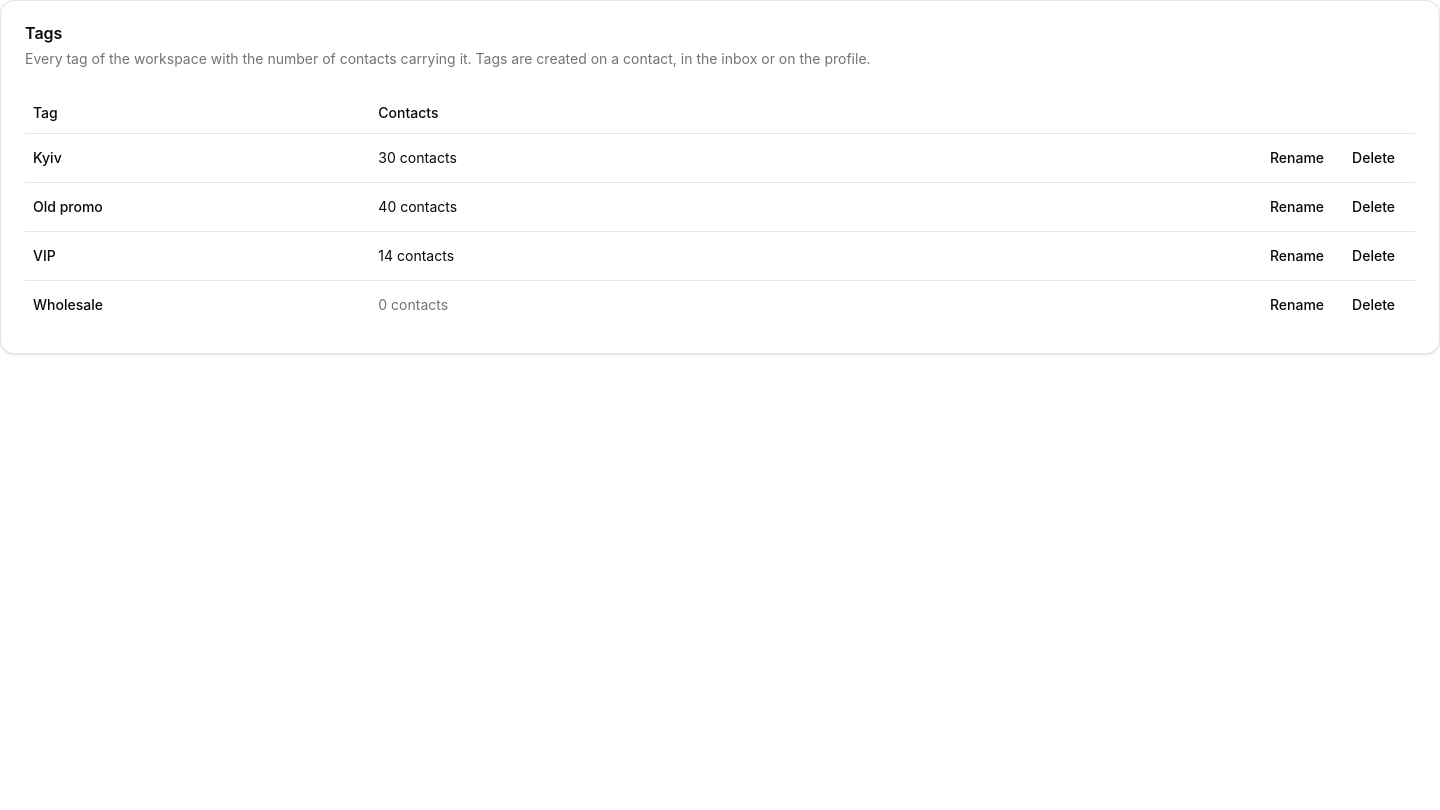
Test case: SCR-21 owner actions (AC-09, AC-11, AC-14) › tag gone: the dialog closes, the list re-reads, «This tag no longer exists.»
This screenshot has width=1440, height=810.
Click the button "Delete" in the row of "Old promo". click: (1374, 206)
box: [1340, 190, 1407, 222]
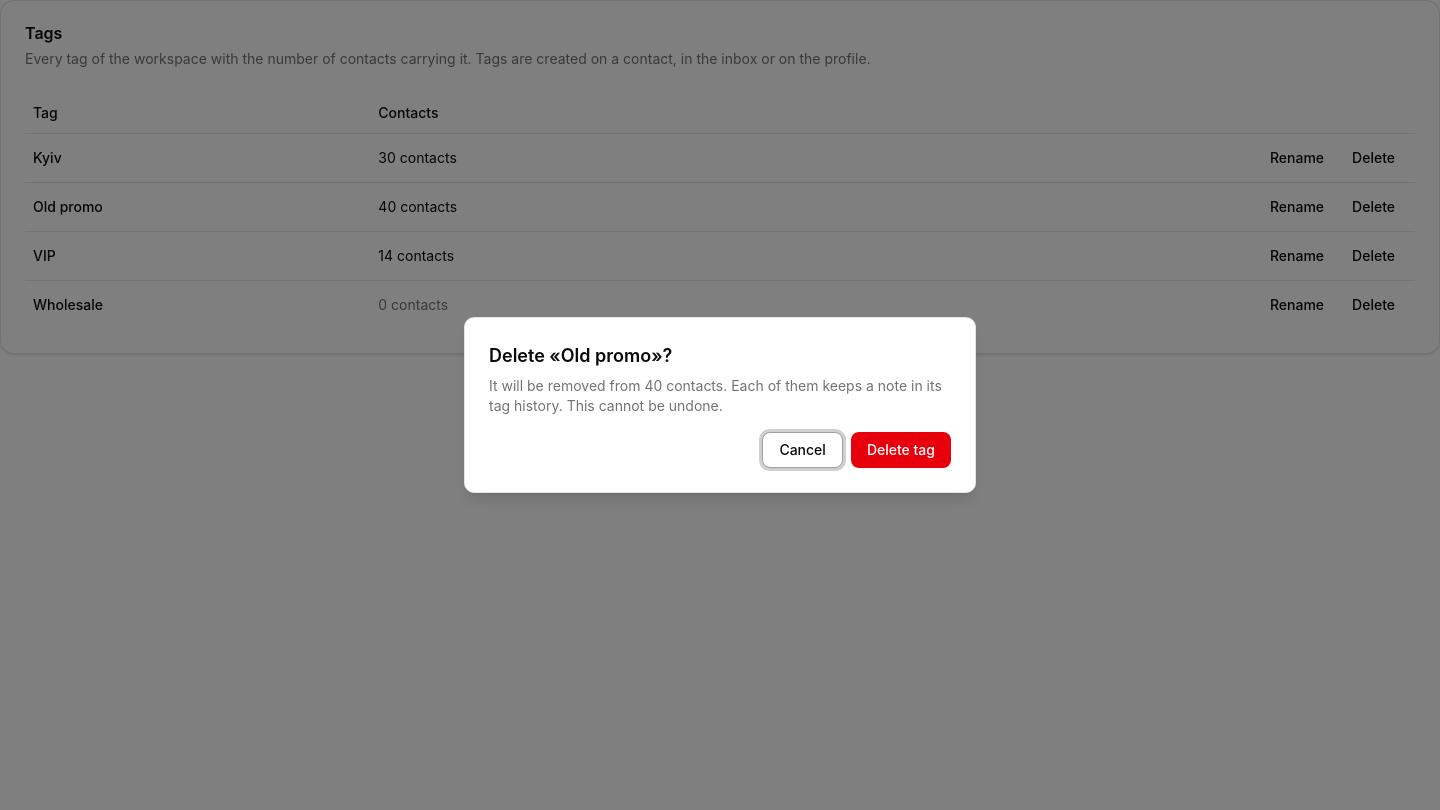
Click the button "Delete tag". click: (901, 450)
box: [851, 432, 951, 468]
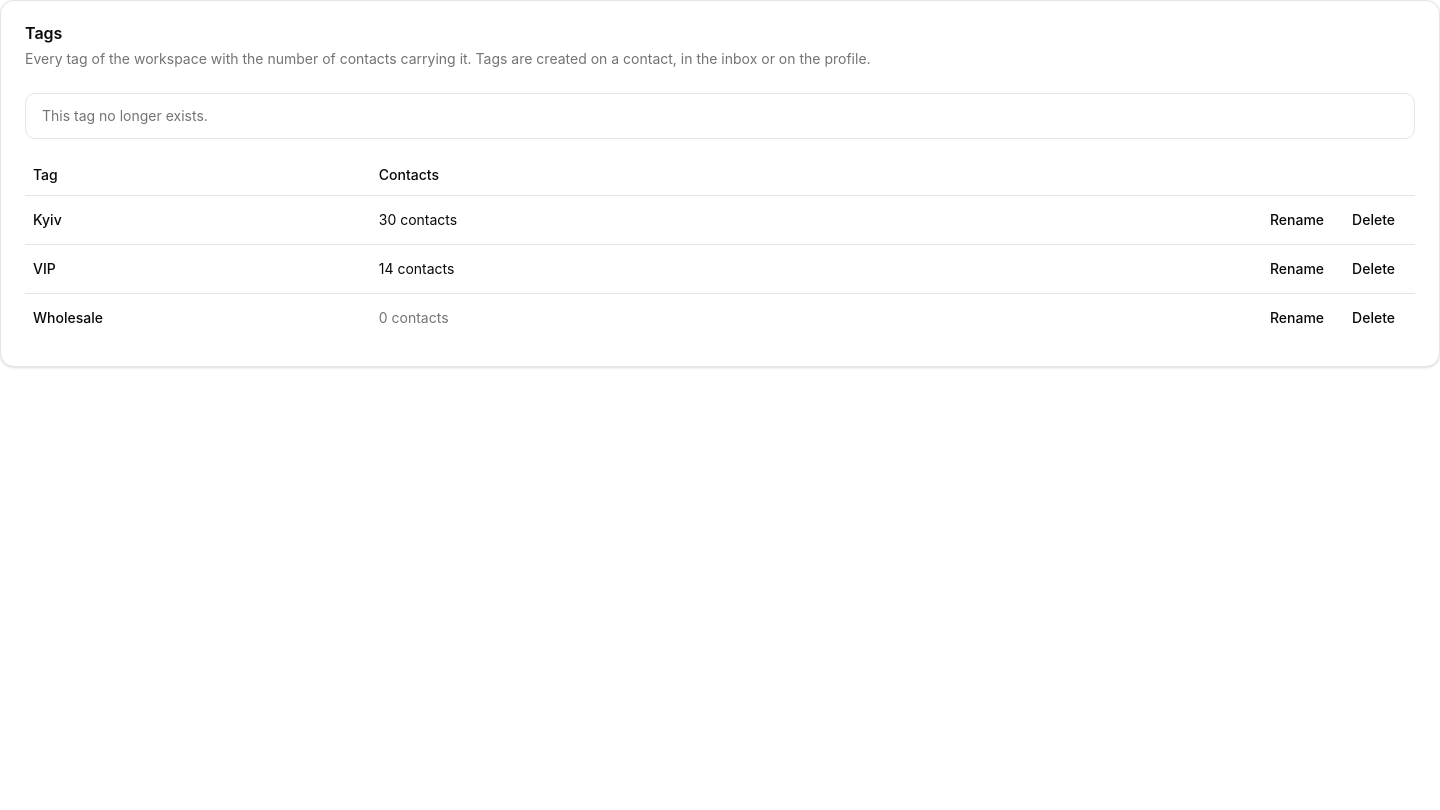
Check: the dialog is gone
Check: the text "This tag no longer exists." is shown, box [42, 107, 208, 124]
Check: the cell "Old promo" is gone
